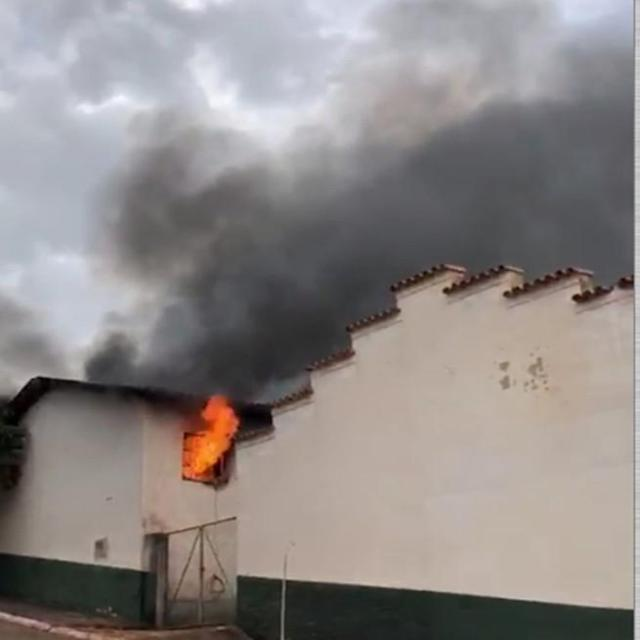Fire: (176, 382, 247, 482)
Smoke: (5, 0, 639, 379)
